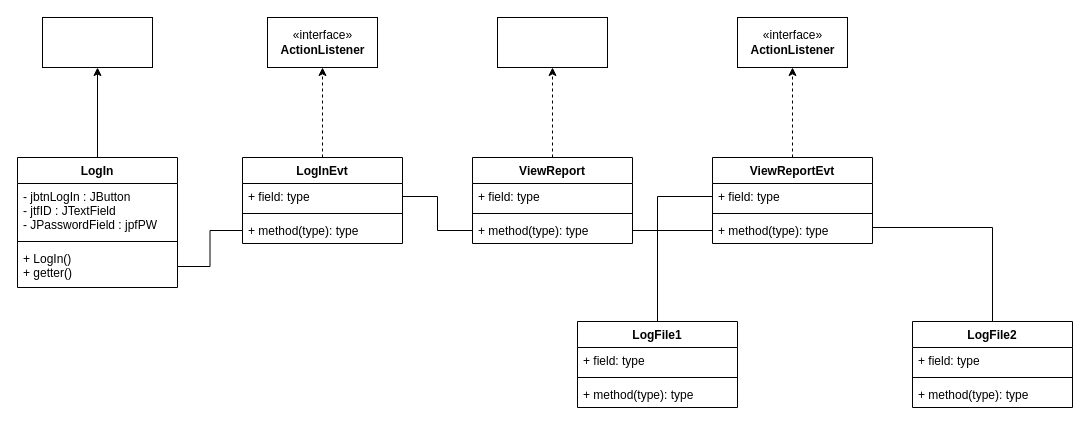
This 1090x428 diagram has some shape labels left out. Each missing label, with the centre of its shape:
JDialog: point 552,42
JFrame: point 97,42
